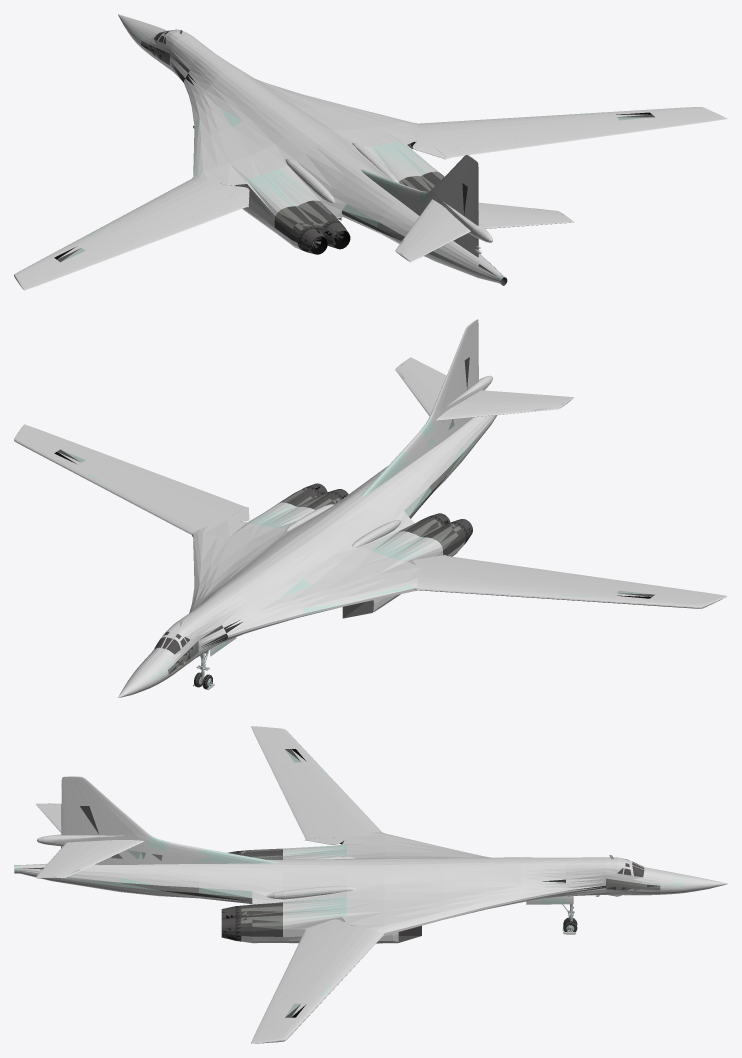
3 views of the same model, one above another, from view 1: azimuth 30°, elevation 25°; view 2: azimuth 150°, elevation 25°; view 3: azimuth 270°, elevation 25° (orthographic). The views are drawn at different scales.
Visible parts, largest first — view 1: tu160; view 2: tu160; view 3: tu160.
Boxes of the visible parts, x1,y1,x2,y2 form: tu160: [14, 14, 727, 290]; tu160: [14, 319, 727, 697]; tu160: [14, 726, 727, 1043].
Size of the model in its own units: 56.92 by 13.03 by 54.1.
